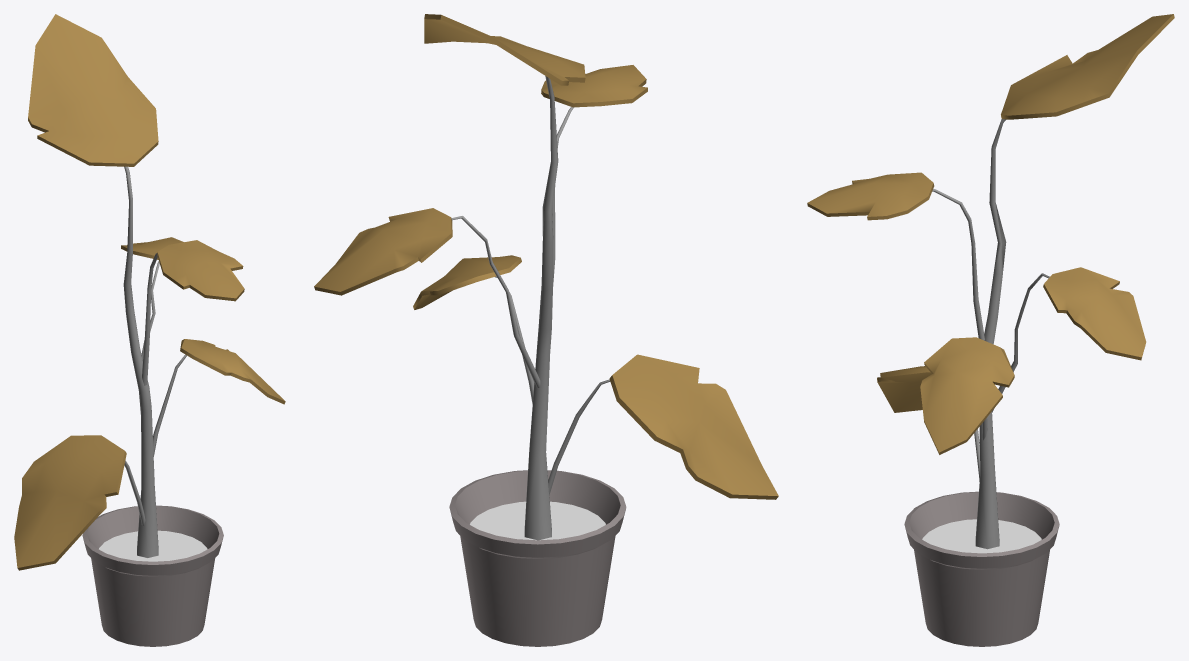
The model's file is plant1.fbx.
3 views of the same model, side by side, from view 1: azimuth 30°, elevation 25°; view 2: azimuth 150°, elevation 25°; view 3: azimuth 270°, elevation 25° (orthographic). The views are drawn at different scales.
Visible parts, largest first — view 1: plant; view 2: plant; view 3: plant.
Boxes of the visible parts, x1,y1,x2,y2 form: plant: (14,14,285,646); plant: (314,14,778,646); plant: (807,14,1174,646).
Bounding box in the file's own units: 64.28 × 122 × 67.23.
